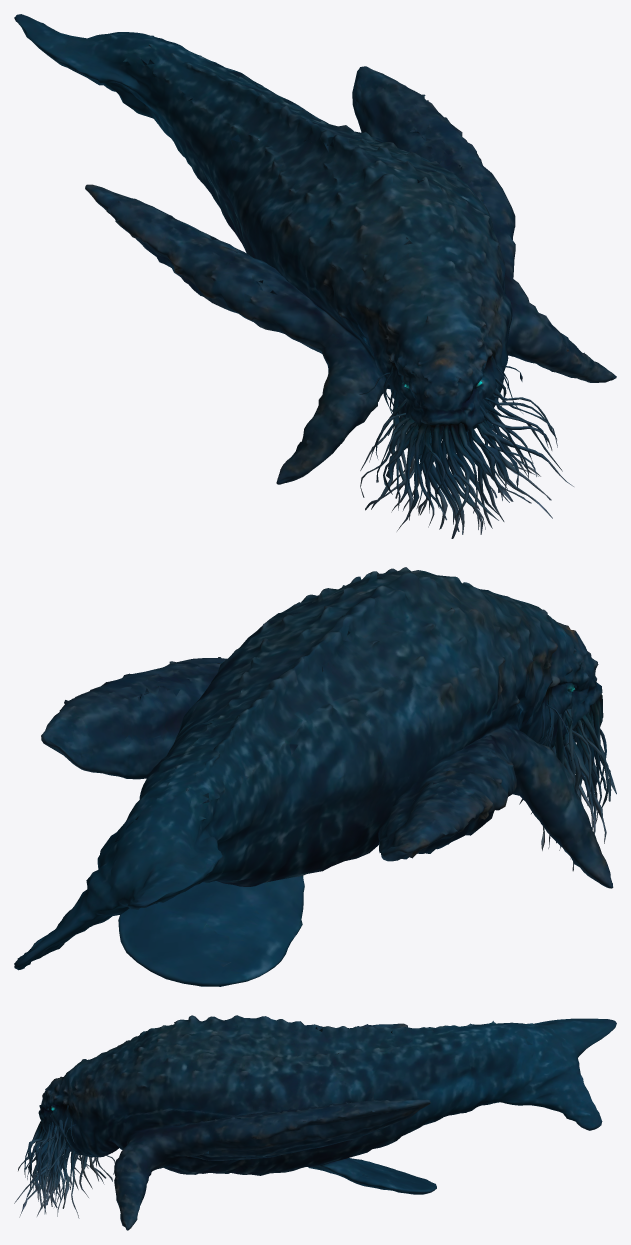
Rendered from watcher.glb.
3 renders of one model, top to bottom at view 1: azimuth 30°, elevation 25°; view 2: azimuth 150°, elevation 25°; view 3: azimuth 270°, elevation 25°, orthographic. The views are drawn at different scales.
Visible parts, largest first — view 1: watcher; view 2: watcher; view 3: watcher.
Part boxes in pixels (box(x1,y1,x2,y2)): watcher: box(14, 14, 616, 538); watcher: box(14, 567, 616, 986); watcher: box(14, 1015, 616, 1230).
Size of the model in its own units: 0.4584 by 0.376 by 1.
1 material, 1 textured.
